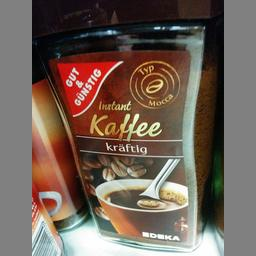coffee: (30, 0, 220, 249)
